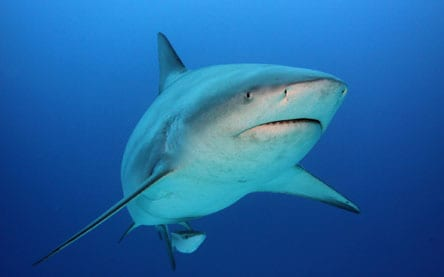shark: (28, 26, 366, 277)
